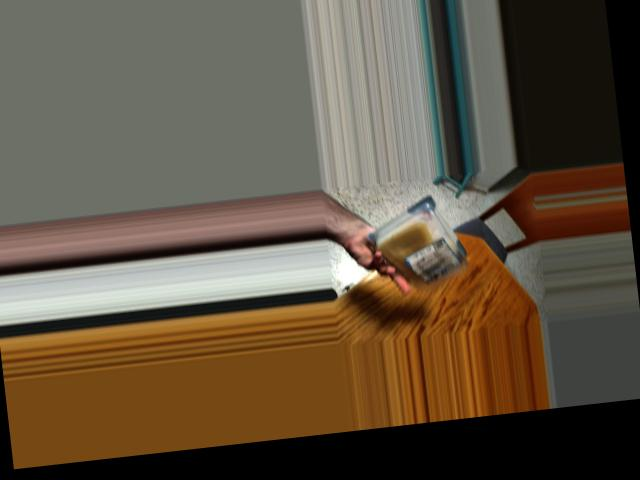cheese: (373, 209, 466, 289)
